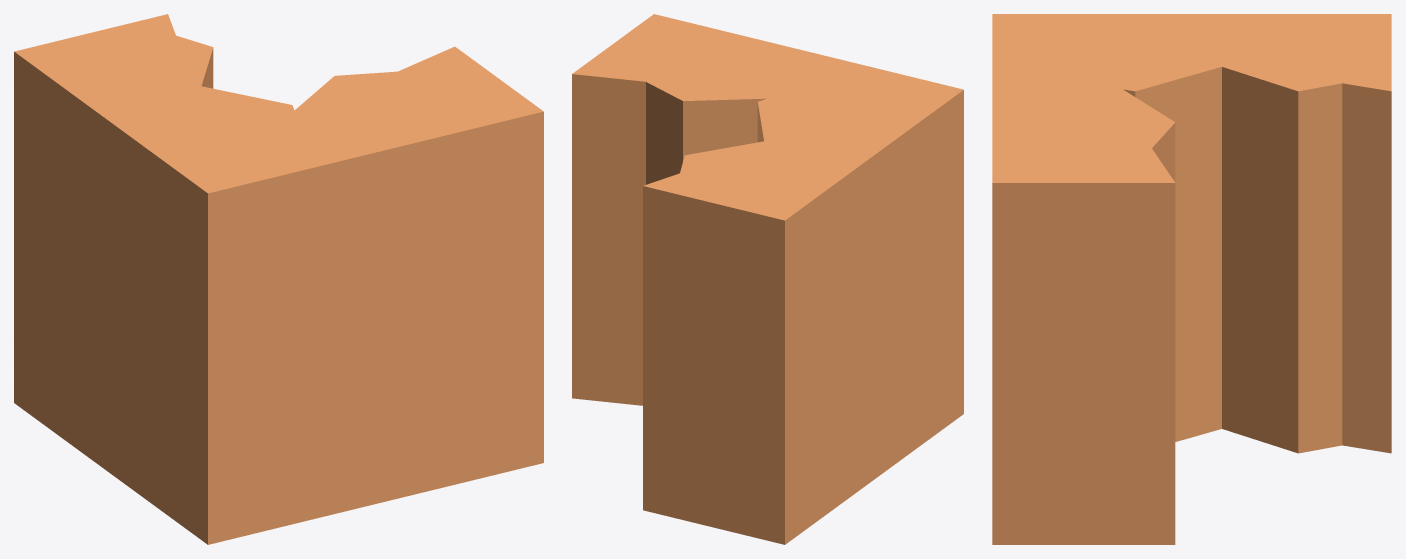
The model's file is cliffBrown_cornerInnerMid.obj.
3 views of the same model, side by side, from view 1: azimuth 30°, elevation 25°; view 2: azimuth 150°, elevation 25°; view 3: azimuth 270°, elevation 25° (orthographic). The views are drawn at different scales.
Visible parts, largest first — view 1: cliffBrown_cornerInnerMid; view 2: cliffBrown_cornerInnerMid; view 3: cliffBrown_cornerInnerMid.
Boxes of the visible parts, <box> form: cliffBrown_cornerInnerMid: <box>14,14,543,544</box>; cliffBrown_cornerInnerMid: <box>572,14,963,544</box>; cliffBrown_cornerInnerMid: <box>992,14,1391,544</box>.
Size of the model in its own units: 10 by 10 by 10.
